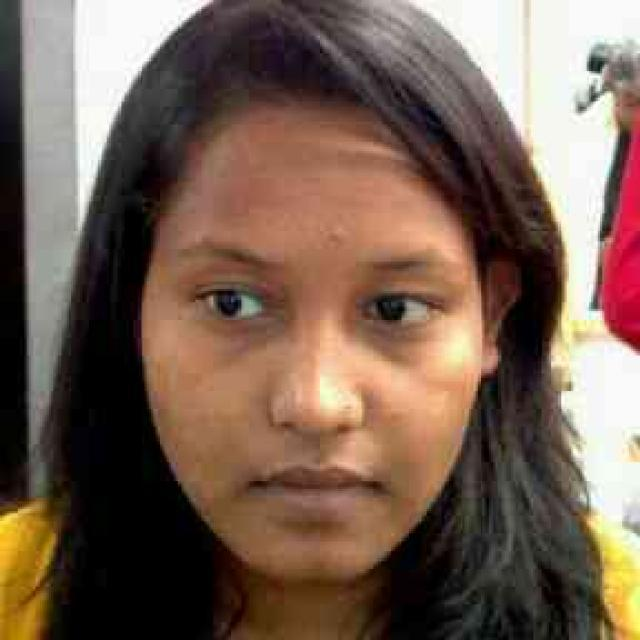puffy_eyes: (223, 293, 296, 357), (353, 324, 438, 361)
